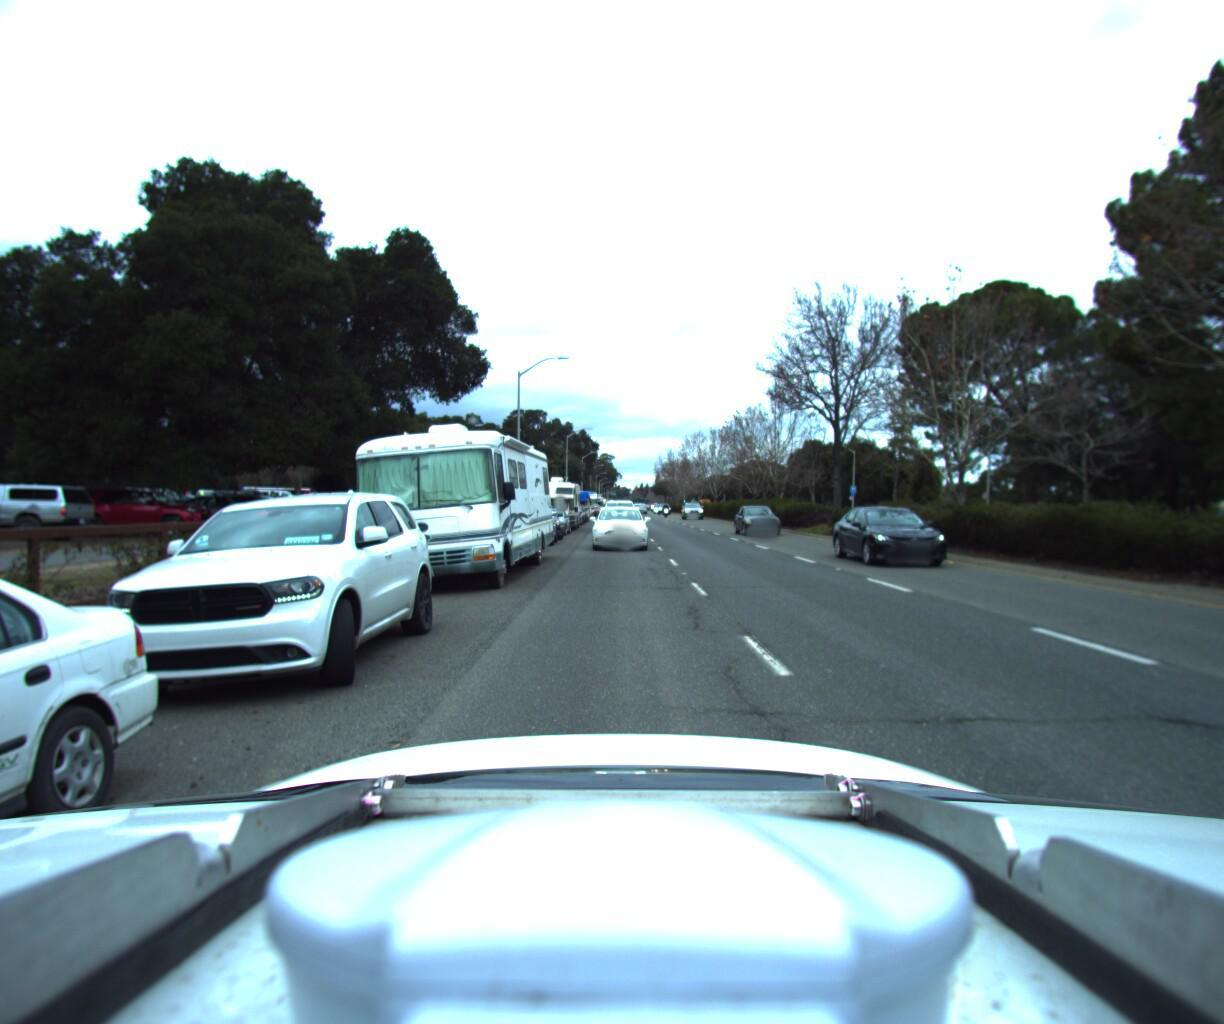car: (63, 473, 443, 727), (842, 497, 983, 571), (135, 485, 274, 531), (279, 483, 379, 518), (500, 492, 558, 543), (591, 498, 650, 548), (734, 499, 788, 535), (519, 497, 562, 536), (529, 499, 571, 531), (598, 494, 635, 525), (682, 495, 707, 513)
other_vehicle: (319, 393, 559, 596), (523, 466, 582, 526), (559, 481, 591, 514)
